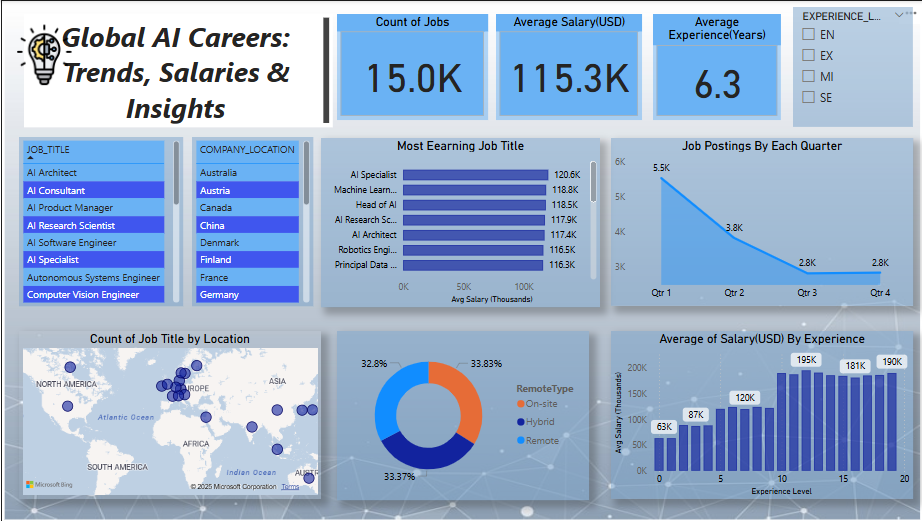

What the dashboard file says about the page in this screenshot:
{"tool":"powerbi","page":{"name":"Page 1","canvas":[1280,720],"ordinal":0},"visuals":[{"type":"image","box":[9.6,0,1270.4,719.8],"z":0},{"type":"textbox","box":[41.3,19.3,425.3,155.5],"z":500},{"type":"barChart","title":"Most Eearning Job Title","fields":{"Y":["Avg(AI_JOBS.SALARY_USD)"],"Category":["AI_JOBS.JOB_TITLE"]},"box":[450.1,189.9,384,232.6],"z":1000},{"type":"donutChart","fields":{"Category":["AI_JOBS.RemoteType"],"Y":["CountNonNull(AI_JOBS.JOB_ID)"]},"box":[472.1,455.6,346.8,232.6],"z":4000},{"type":"map","title":"Count of Job Title by Location","fields":{"Category":["AI_JOBS.COMPANY_LOCATION"],"Size":["CountNonNull(AI_JOBS.JOB_TITLE)"]},"box":[34.4,455.6,415.7,231.2],"z":5000},{"type":"lineClusteredColumnComboChart","title":"Average of Salary(USD) By Experience","fields":{"Y":["Avg(AI_JOBS.SALARY_USD)"],"Category":["AI_JOBS.YEARS_EXPERIENCE"]},"box":[849.2,455.6,415.7,231.2],"z":6000},{"type":"lineChart","title":"Job Postings By Each Quarter","fields":{"Y":["CountNonNull(AI_JOBS.JOB_TITLE)"],"Category":["AI_JOBS.POSTING_DATE.Variation.Date Hierarchy.Quarter"]},"box":[849.2,189.9,415.7,231.2],"z":7000},{"type":"tableEx","title":"Average of Salary(USD) By Experience","fields":{"Values":["AI_JOBS.JOB_TITLE"]},"box":[34.4,188.6,225.7,232.6],"z":8000},{"type":"slicer","title":"Average of Salary(USD) By Experience","fields":{"Values":["AI_JOBS.EXPERIENCE_LEVEL"]},"box":[1099.7,9.6,165.2,165.2],"z":9000},{"type":"tableEx","title":"Average of Salary(USD) By Experience","fields":{"Values":["AI_JOBS.COMPANY_LOCATION"]},"box":[272.5,188.6,166.5,232.6],"z":10000},{"type":"cardVisual","title":"Average Salary(USD)","fields":{"Data":["Avg(AI_JOBS.SALARY_USD)"]},"box":[690.9,19.3,200.9,145.9],"z":11000},{"type":"cardVisual","title":"Count of Jobs","fields":{"Data":["CountNonNull(AI_JOBS.JOB_ID)"]},"box":[472.1,19.3,207.8,145.9],"z":12000},{"type":"cardVisual","title":"Average Experience(Years)","fields":{"Data":["Avg(AI_JOBS.YEARS_EXPERIENCE)"]},"box":[907,19.3,176.2,145.9],"z":13000},{"type":"image","box":[19.5,27.2,100.5,96.3],"z":13500}]}

Visuals, with their boxes in screenshot pixels (x1, y1, x2, y2), scaled from the page's 1280x720 canvas onto the 922x521 screenshot:
image: [left=7, top=0, right=921, bottom=520]
textbox: [left=30, top=14, right=336, bottom=126]
"Most Eearning Job Title" barChart: [left=324, top=137, right=601, bottom=306]
donutChart - AI_JOBS.RemoteType x CountNonNull(AI_JOBS.JOB_ID): [left=340, top=330, right=590, bottom=498]
"Count of Job Title by Location" map: [left=25, top=330, right=324, bottom=497]
"Average of Salary(USD) By Experience" lineClusteredColumnComboChart: [left=612, top=330, right=911, bottom=497]
"Job Postings By Each Quarter" lineChart: [left=612, top=137, right=911, bottom=305]
"Average of Salary(USD) By Experience" tableEx: [left=25, top=136, right=187, bottom=305]
"Average of Salary(USD) By Experience" slicer: [left=792, top=7, right=911, bottom=126]
"Average of Salary(USD) By Experience" tableEx: [left=196, top=136, right=316, bottom=305]
"Average Salary(USD)" cardVisual: [left=498, top=14, right=642, bottom=120]
"Count of Jobs" cardVisual: [left=340, top=14, right=490, bottom=120]
"Average Experience(Years)" cardVisual: [left=653, top=14, right=780, bottom=120]
image: [left=14, top=20, right=86, bottom=89]
